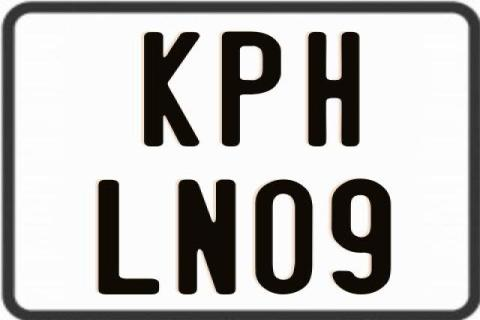0: (328, 177, 392, 297), (255, 180, 317, 296)
H: (308, 32, 361, 148)
K: (144, 30, 202, 146)
L: (97, 180, 164, 294)
N: (177, 179, 241, 299)
P: (222, 31, 282, 150)
